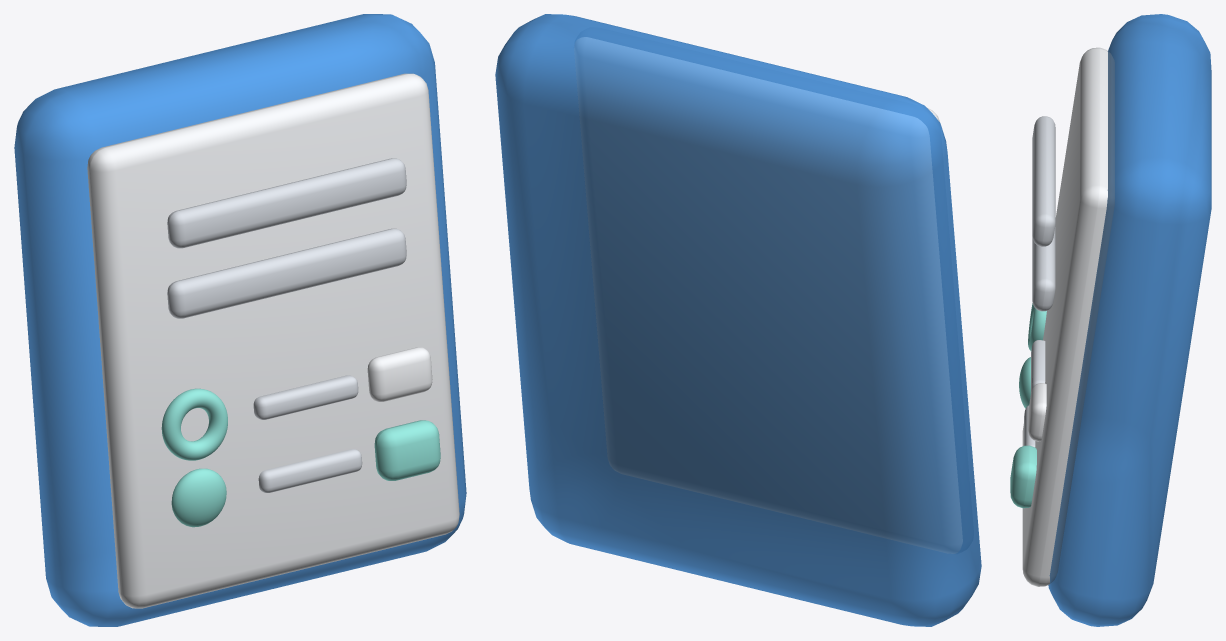
The model's file is module-07.glb.
3 renders of one model, left to right at view 1: azimuth 30°, elevation 25°; view 2: azimuth 150°, elevation 25°; view 3: azimuth 270°, elevation 25°, orthographic. The views are drawn at different scales.
Visible parts, largest first — view 1: panel, frame, field0, field1, PROP_field, radio0, toggle, line_a, radio1, line_b; view 2: frame, panel; view 3: frame, panel, field0, field1, PROP_field, toggle, line_a, radio0, radio1.
Part boxes in pixels (x1,y1,x2,y2): panel: [87, 73, 459, 608]; frame: [14, 14, 466, 626]; field0: [167, 158, 406, 248]; field1: [167, 228, 406, 318]; PROP_field: [374, 420, 440, 480]; radio0: [161, 388, 227, 460]; toggle: [367, 347, 432, 401]; line_a: [253, 375, 358, 419]; radio1: [171, 468, 226, 527]; line_b: [258, 449, 362, 492]; frame: [495, 14, 981, 626]; panel: [574, 37, 962, 553]; frame: [1048, 14, 1211, 626]; panel: [1022, 47, 1114, 586]; field0: [1032, 116, 1055, 246]; field1: [1032, 225, 1055, 311]; PROP_field: [1010, 445, 1036, 508]; toggle: [1028, 383, 1046, 441]; line_a: [1031, 340, 1045, 392]; radio0: [1028, 303, 1046, 351]; radio1: [1019, 357, 1030, 408].
Bounding box in the file's own units: 1.2 × 1.44 × 0.5638.
